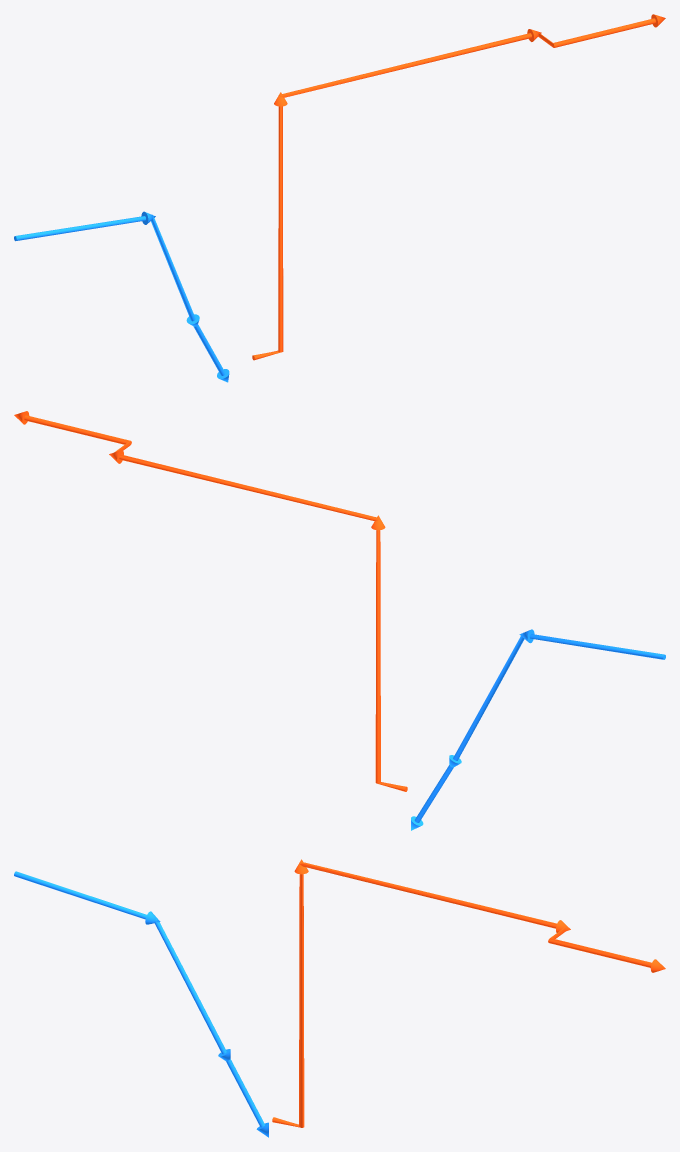
The model's file is sewage_pumping_system_flow.glb.
3 renders of one model, top to bottom at view 1: azimuth 30°, elevation 25°; view 2: azimuth 150°, elevation 25°; view 3: azimuth 330°, elevation 25°, orthographic. The views are drawn at different scales.
Visible parts, largest first — view 1: flow_out, flow_in; view 2: flow_out, flow_in; view 3: flow_out, flow_in.
Part boxes in pixels (box(x1,y1,x2,y2)): flow_out: box(252, 14, 665, 360); flow_in: box(14, 211, 229, 382); flow_out: box(14, 411, 407, 791); flow_in: box(411, 629, 665, 830); flow_out: box(272, 859, 665, 1127); flow_in: box(14, 871, 268, 1137).
Bounding box in the file's own units: 5.64 × 2.44 × 0.4985.
